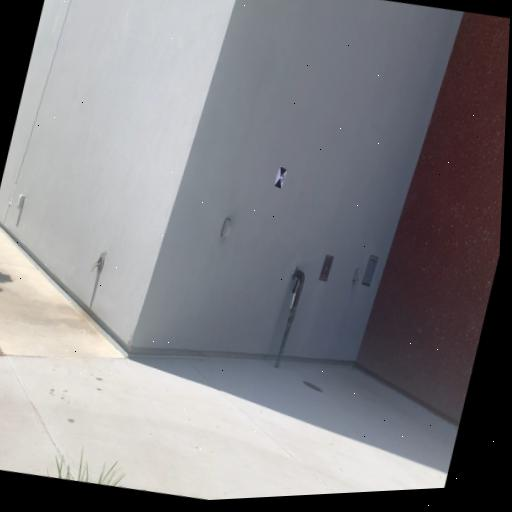target5: (274, 165, 287, 191)
